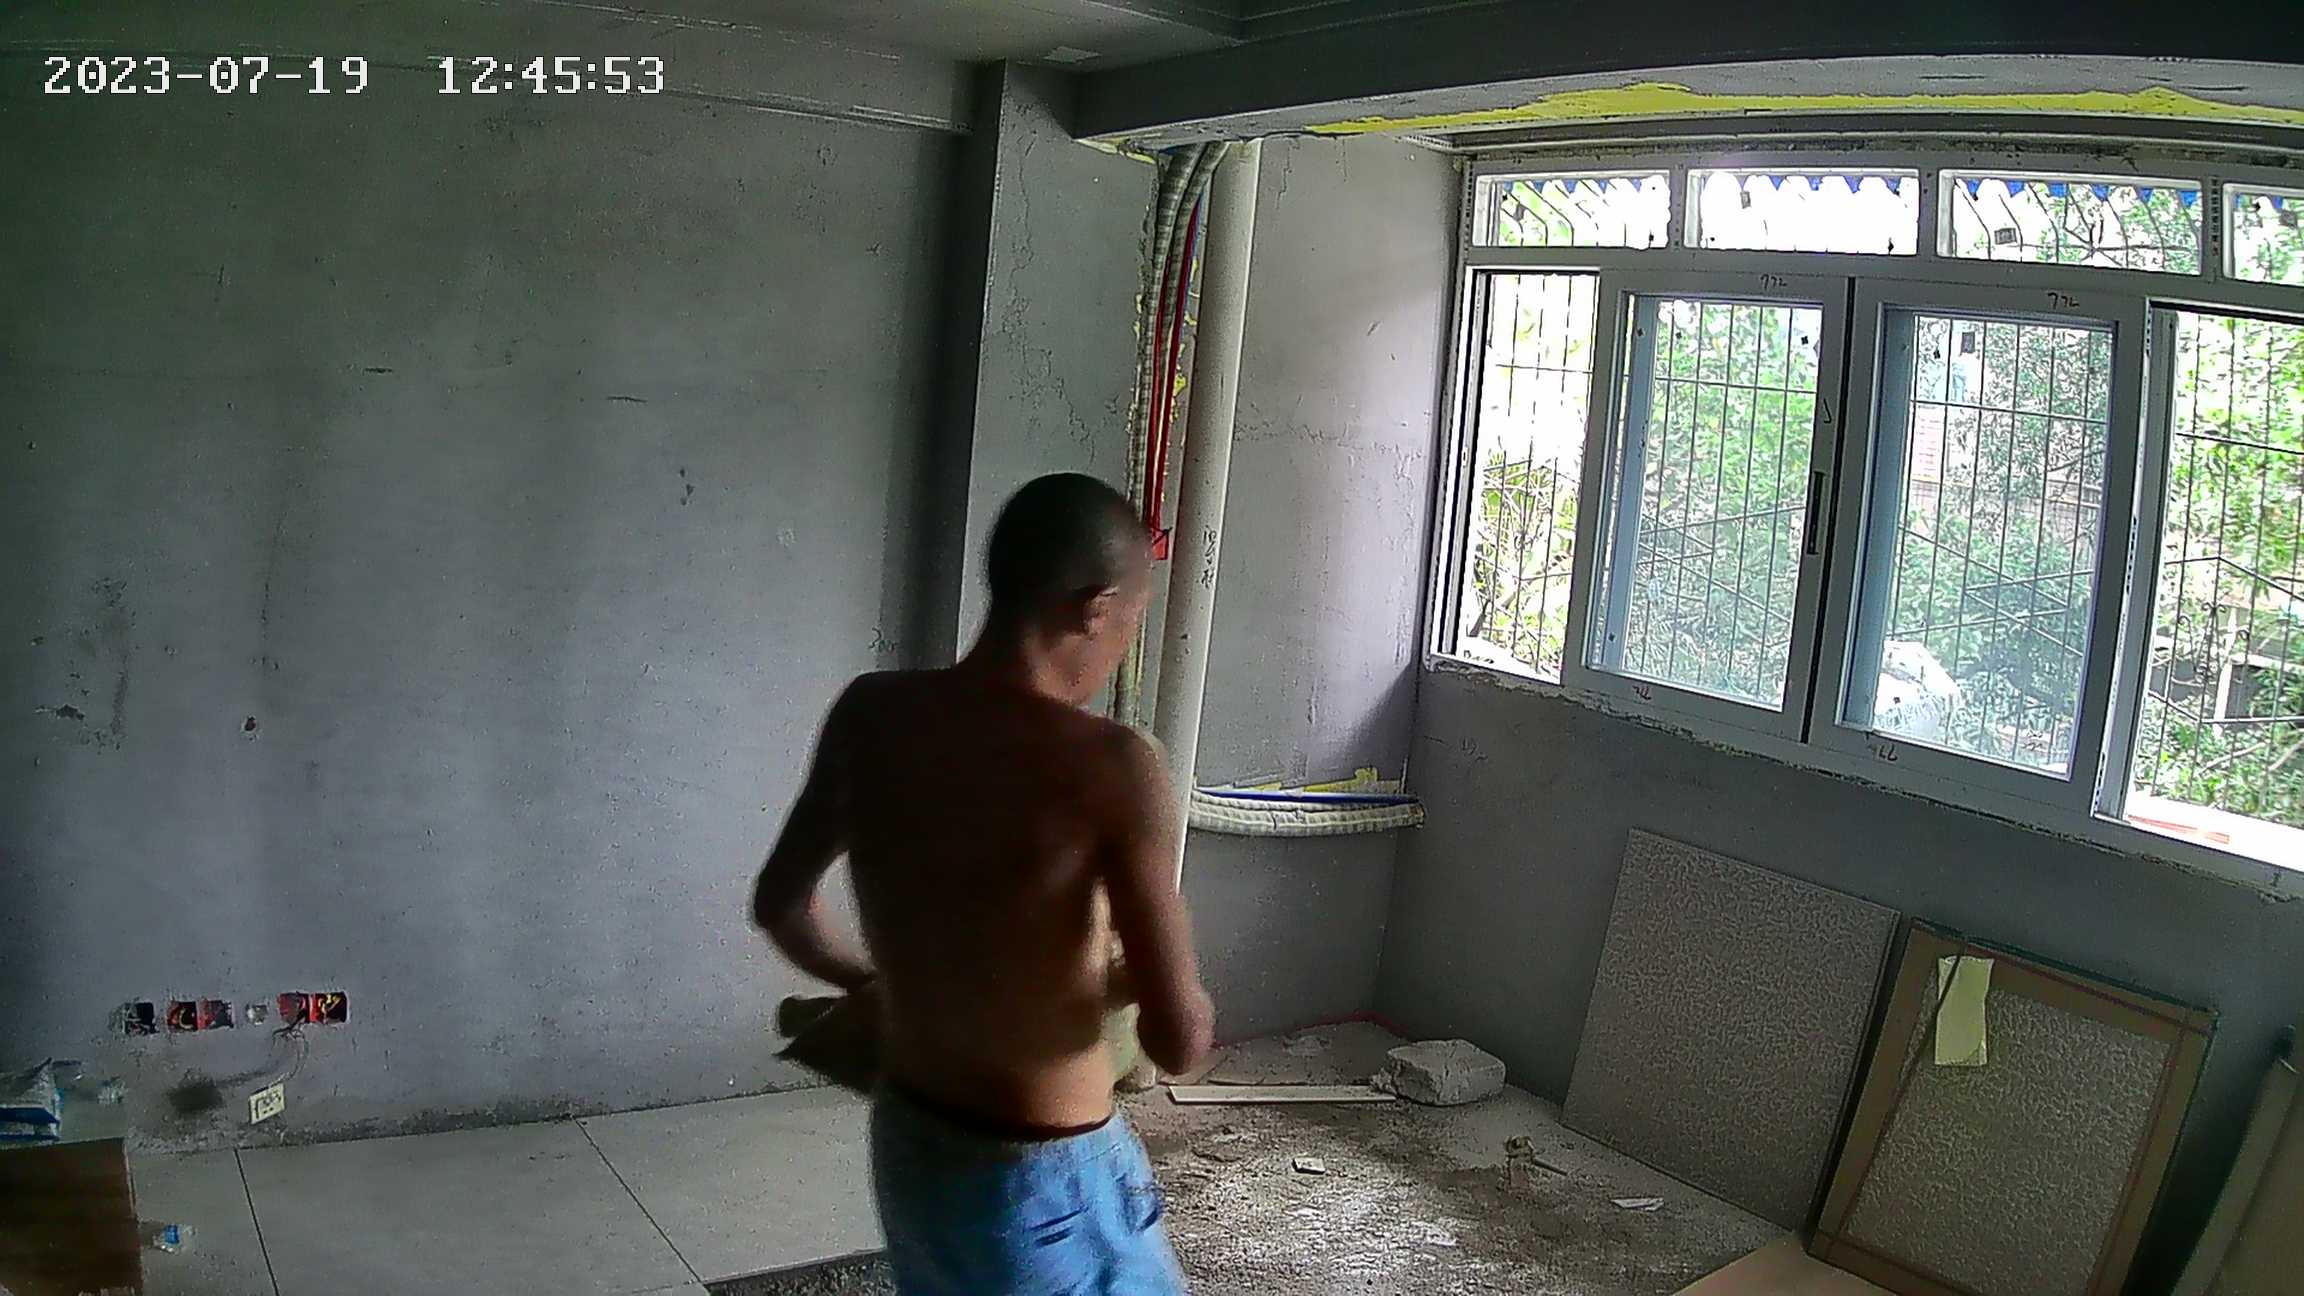people: (747, 473, 1219, 1296)
window: (1458, 155, 2304, 868)
